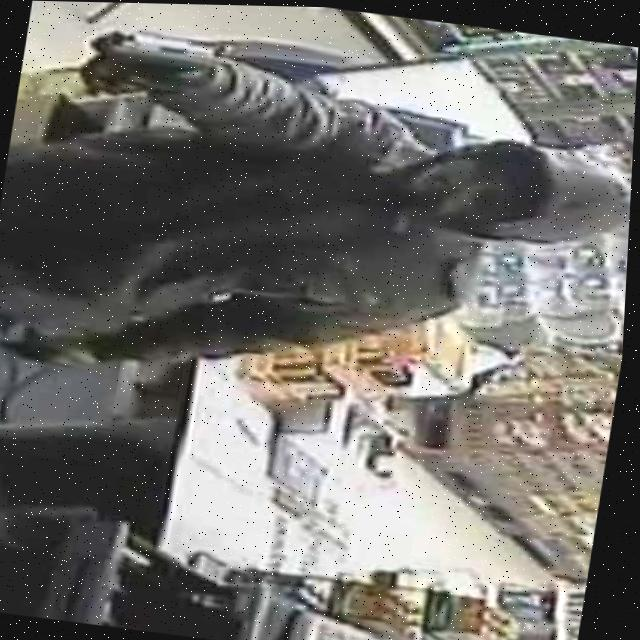pistol: (85, 22, 225, 85)
